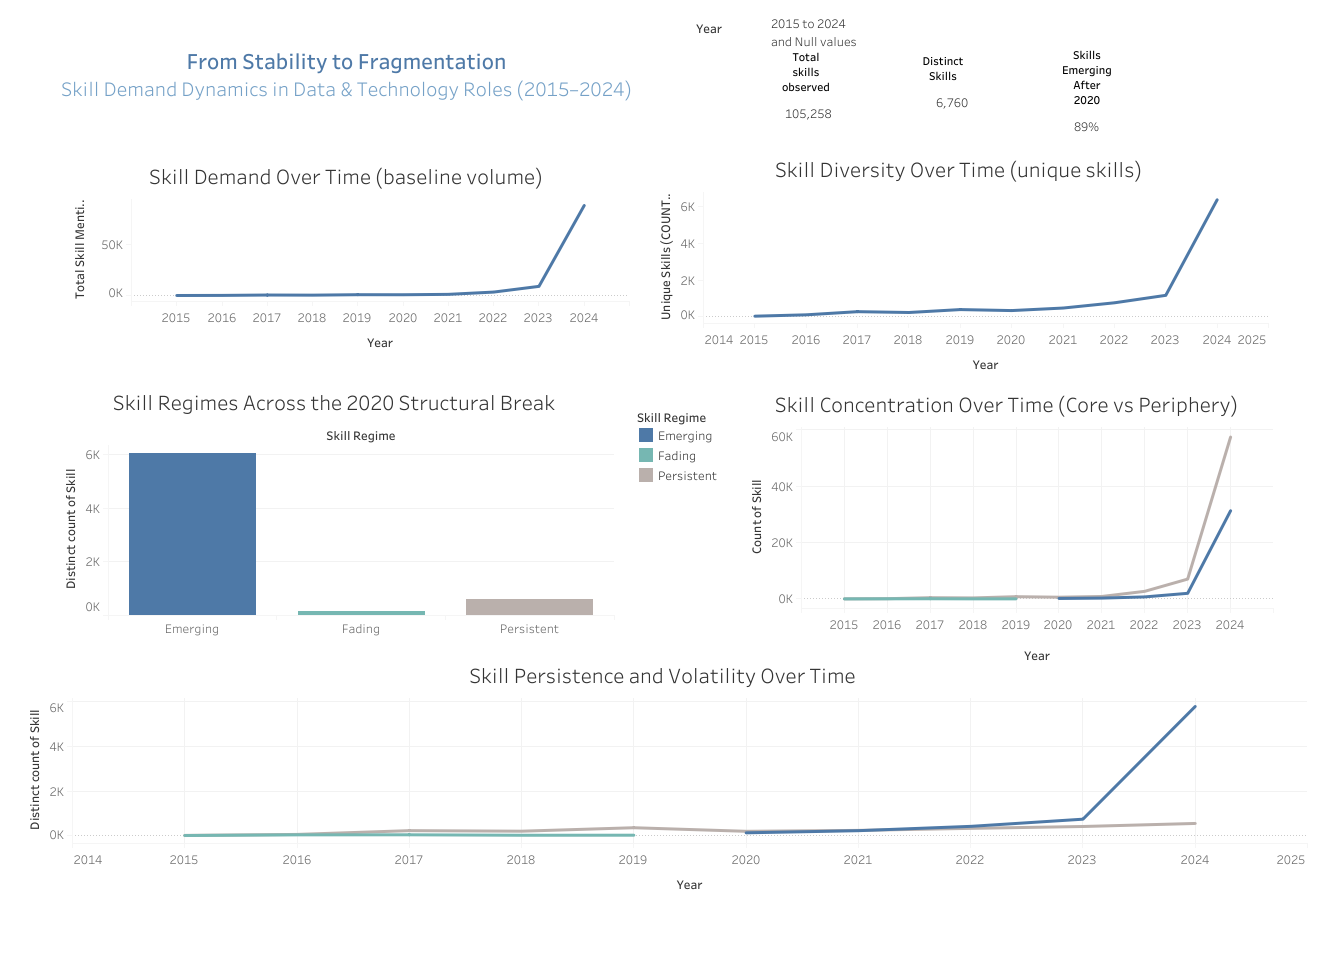

The dashboard page shown, as its layout file describes it:
{"tool":"tableau","page":{"name":"From Stability to Fragmentation: Skill Demand Dynamics in Data & Tech (2015–2024)","canvas":[1320,960],"ordinal":0},"visuals":[{"type":"text","box":[6,8,449,92]},{"type":"filter","title":"Skill Demand Over Time (baseline volume)","param":"[federated.1p398fq1492sdd10zbxsv1rdpti4].[none:year:qk]","box":[792,15,501,28]},{"type":"worksheet","title":"Total skills observed","mark":"Automatic","box":[491,28,315,126]},{"type":"worksheet","title":"Skill Diversity Over Time (unique skills)","mark":"Line","rows":["skill"],"cols":["year"],"box":[638,134,619,231]},{"type":"worksheet","title":"Skill Demand Over Time (baseline volume)","mark":"Line","rows":["skill"],"cols":["year"],"box":[49,139,566,202]},{"type":"worksheet","title":"Skill Regimes Across the 2020 Structural Break","mark":"Bar","rows":["skill"],"cols":["Calculation_1722908357161811974"],"box":[56,366,560,255]},{"type":"worksheet","title":"Skill Concentration Over Time (Core vs Periphery)","mark":"Automatic","rows":["skill"],"cols":["year"],"box":[744,371,533,280]},{"type":"legend","title":"Skill Regimes Across the 2020 Structural Break","param":"[federated.1p398fq1492sdd10zbxsv1rdpti4].[none:Calculation_1722908357161811974:n","box":[636,406,110,78]},{"type":"worksheet","title":"Skill Persistence and Volatility Over Time","mark":"Automatic","rows":["skill"],"cols":["year"],"box":[18,642,1289,245]}]}

Visuals, with their boxes in screenshot pixels (x1, y1, x2, y2), scaled from the page's 1320x960 canvas onto the 1319x959 screenshot:
text: bbox=[6, 8, 455, 100]
"Skill Demand Over Time (baseline volume)" filter: bbox=[791, 15, 1292, 43]
"Total skills observed" worksheet: bbox=[491, 28, 805, 154]
"Skill Diversity Over Time (unique skills)" worksheet (Line marks): bbox=[638, 134, 1256, 365]
"Skill Demand Over Time (baseline volume)" worksheet (Line marks): bbox=[49, 139, 615, 341]
"Skill Regimes Across the 2020 Structural Break" worksheet (Bar marks): bbox=[56, 366, 616, 620]
"Skill Concentration Over Time (Core vs Periphery)" worksheet: bbox=[743, 371, 1276, 650]
"Skill Regimes Across the 2020 Structural Break" legend: bbox=[636, 406, 745, 483]
"Skill Persistence and Volatility Over Time" worksheet: bbox=[18, 641, 1306, 886]
